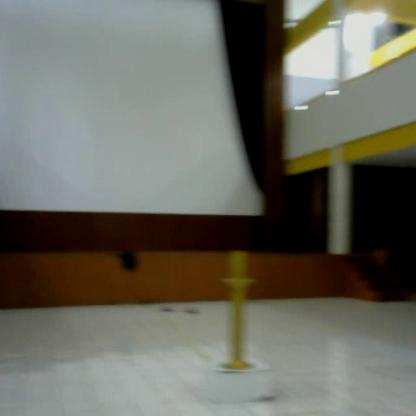pole: (218, 246, 260, 376)
